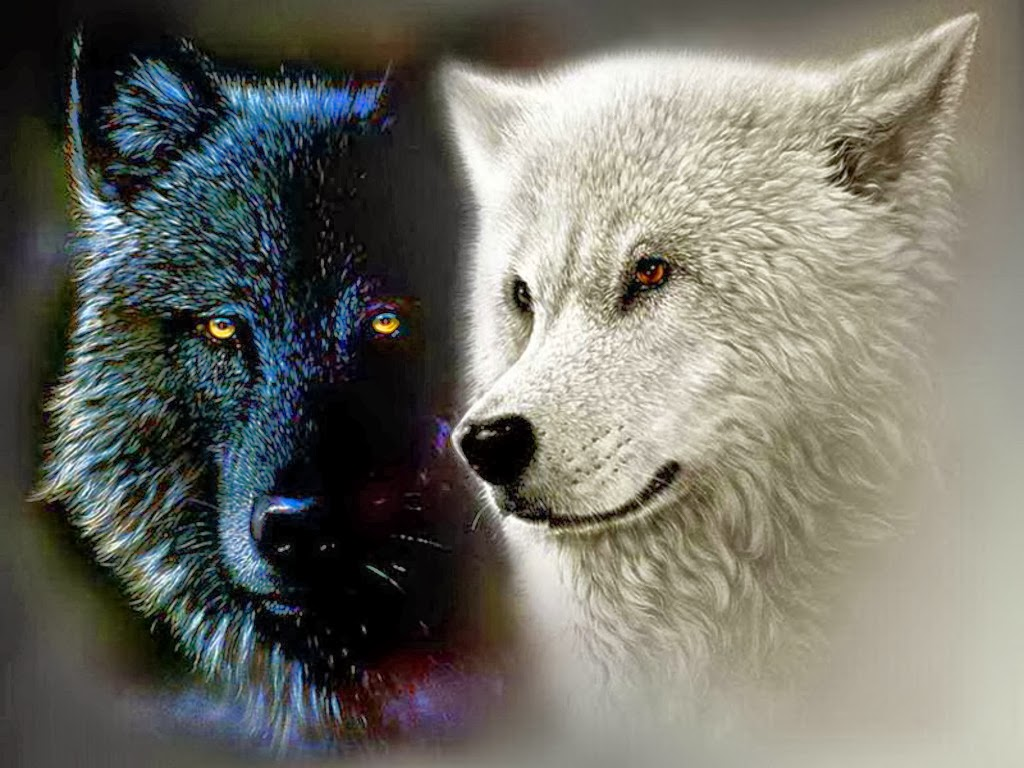Lobo: (418, 29, 1016, 586), (46, 29, 448, 646)
